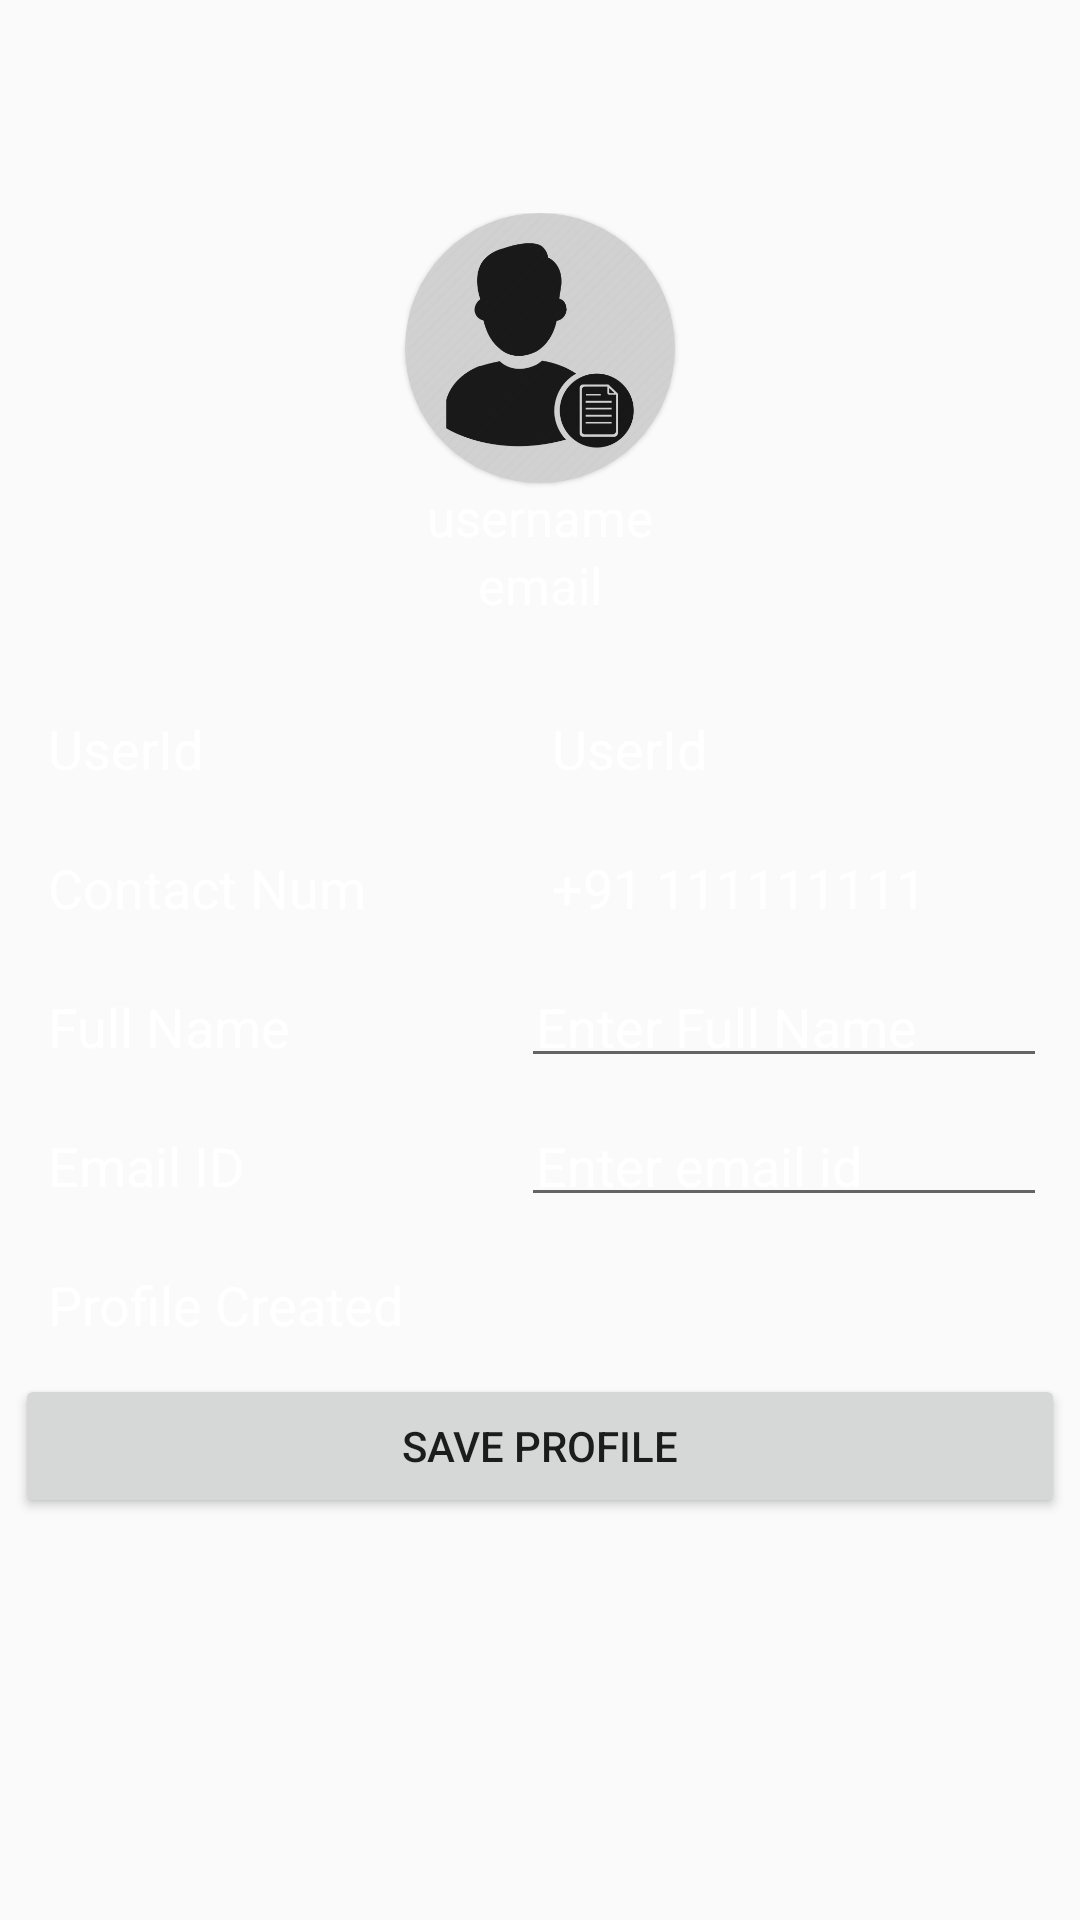

Icon bounding boxes for this 1080 × 1920 phone screenshot, format (x1, y1, x2, y2):
profile: (405, 213, 675, 483)
